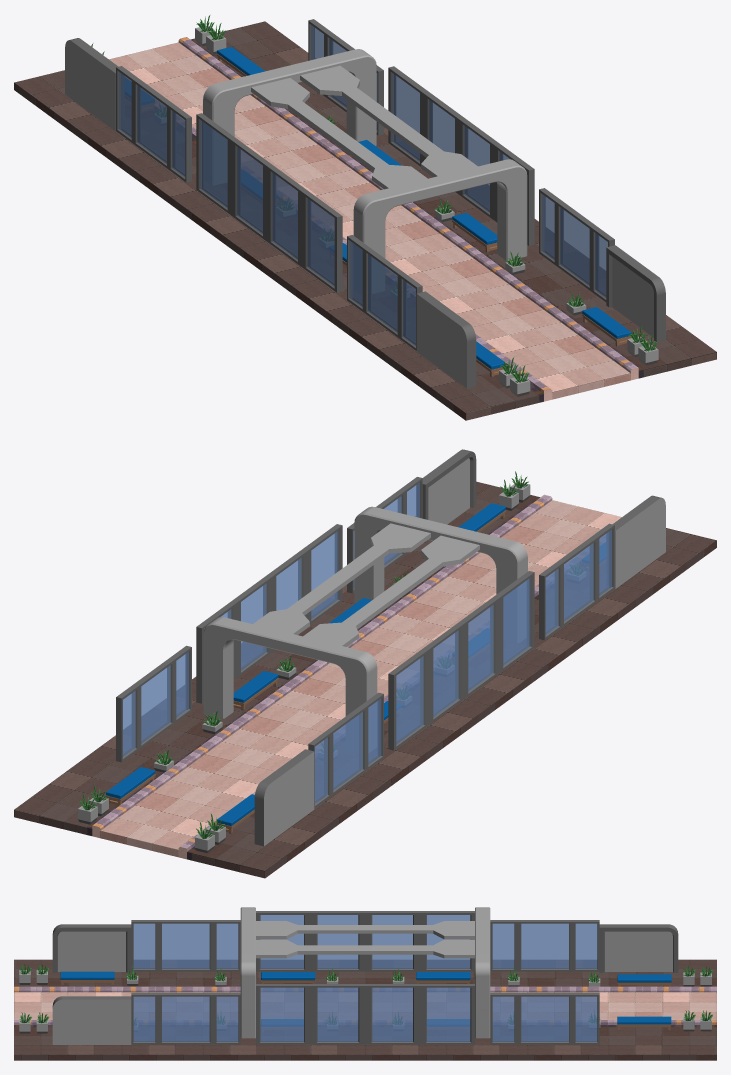
The model's file is Safe_Chunk01.fbx.
3 views of the same model, one above another, from view 1: azimuth 30°, elevation 25°; view 2: azimuth 150°, elevation 25°; view 3: azimuth 270°, elevation 25° (orthographic). The views are drawn at different scales.
Parts seen in each view (by area): view 1: Base, Arches, pCube20 (×2), pCube24 (×2), pCube23 (×2), pCube19 (×2), pCube51, Safe_Bench_06, Safe_Bench_07, Safe_Bench_09; view 2: Base, Arches, pCube20 (×2), pCube19 (×2), pCube24 (×2), pCube23 (×2), pCube51, Safe_Bench_09, Safe_Bench_08, Safe_Bench_06, Safe_Bench_05; view 3: Base, pCube20 (×2), pCube19 (×2), pCube24 (×2), Arches, pCube23 (×2), pCube51, Safe_Bench_02, Safe_Bench_09, Safe_Bench_05, Safe_Bench_04, Safe_Bench_03 (+2 smaller).
Part boxes in pixels (x1,y1,x2,y2): Base: [14, 21, 716, 420]; Arches: [203, 49, 527, 294]; pCube20 (×2): [196, 66, 534, 292]; pCube24 (×2): [347, 188, 614, 350]; pCube23 (×2): [416, 245, 665, 388]; pCube19 (×2): [116, 19, 383, 182]; pCube51: [65, 38, 123, 131]; Safe_Bench_06: [582, 307, 631, 346]; Safe_Bench_07: [452, 213, 497, 252]; Safe_Bench_09: [217, 46, 264, 76]; Base: [14, 481, 716, 878]; Arches: [203, 506, 527, 752]; pCube20 (×2): [196, 524, 534, 750]; pCube19 (×2): [116, 645, 383, 808]; pCube24 (×2): [347, 477, 614, 640]; pCube23 (×2): [422, 449, 665, 588]; pCube51: [254, 749, 314, 846]; Safe_Bench_09: [106, 767, 155, 806]; Safe_Bench_08: [233, 671, 278, 710]; Safe_Bench_06: [459, 503, 506, 532]; Safe_Bench_05: [217, 794, 254, 833]; Base: [14, 959, 716, 1060]; pCube20 (×2): [256, 911, 474, 1044]; pCube19 (×2): [490, 920, 599, 1044]; pCube24 (×2): [131, 920, 240, 1044]; Arches: [240, 907, 490, 1038]; pCube23 (×2): [52, 924, 131, 1044]; pCube51: [599, 924, 678, 972]; Safe_Bench_02: [60, 971, 114, 985]; Safe_Bench_09: [617, 1016, 671, 1030]; Safe_Bench_05: [617, 974, 671, 986]; Safe_Bench_04: [416, 972, 470, 983]; Safe_Bench_03: [261, 972, 315, 983].
Bounding box in the file's own units: 1925 × 732 × 6000.
